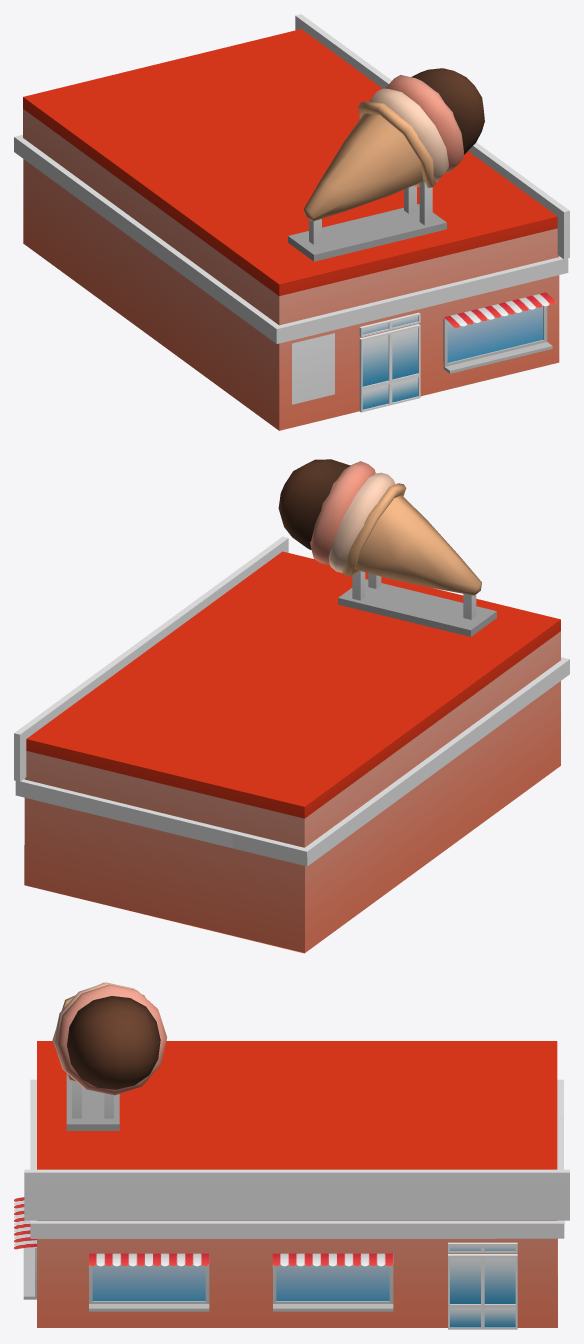
Rendered from TokoEskrim.fbx.
The picture shows the model from 3 angles, top to bottom: view 1: azimuth 30°, elevation 25°; view 2: azimuth 150°, elevation 25°; view 3: azimuth 270°, elevation 25°; orthographic projection.
Visible parts, largest first — view 1: TokoEskrim_LOD0, Eskrim_LOD0; view 2: TokoEskrim_LOD0, Eskrim_LOD0; view 3: TokoEskrim_LOD0, Eskrim_LOD0.
Boxes of the visible parts, bbox=[...] form: TokoEskrim_LOD0: bbox=[14, 14, 569, 430]; Eskrim_LOD0: bbox=[288, 68, 484, 261]; TokoEskrim_LOD0: bbox=[14, 536, 569, 953]; Eskrim_LOD0: bbox=[278, 459, 496, 636]; TokoEskrim_LOD0: bbox=[14, 1041, 569, 1329]; Eskrim_LOD0: bbox=[52, 982, 167, 1130].
Size of what is drawn, in the model's own units: 1089 by 968 by 1690.
